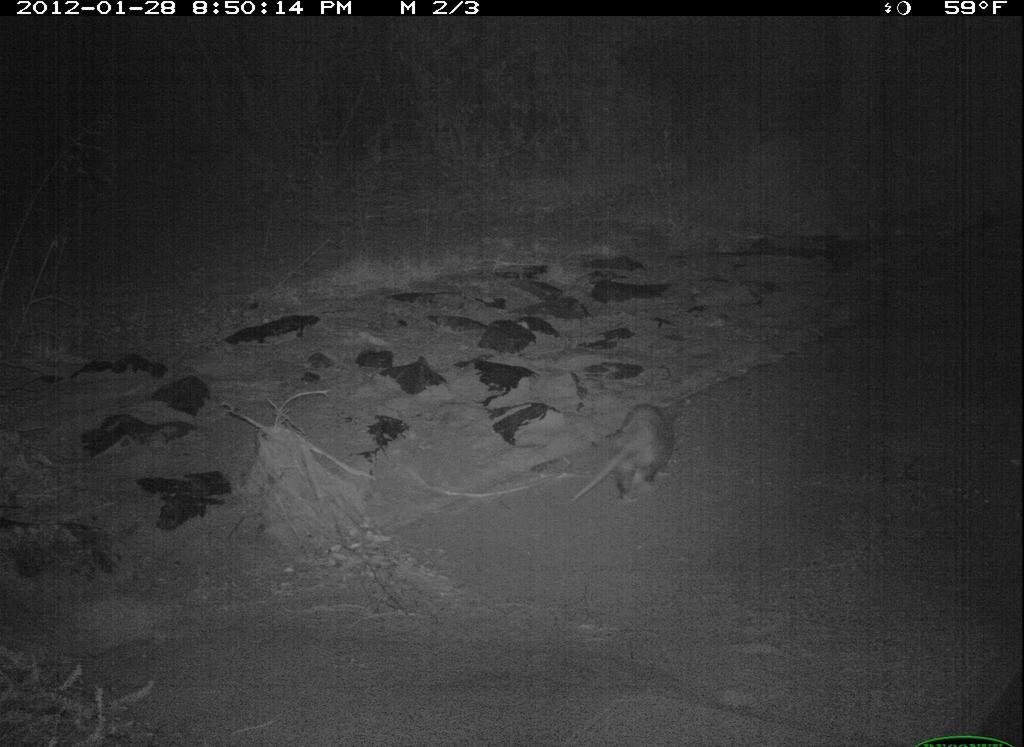opossum: (559, 402, 685, 516)
